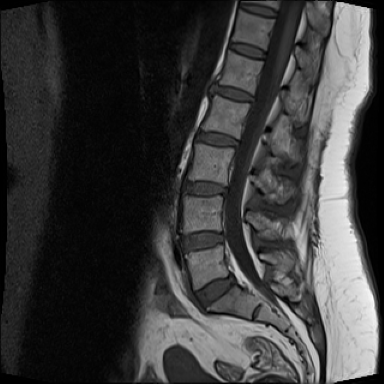Degenerative Disc Disease (DDD): (194, 127, 243, 153)
Lumbar Disc Bulge (LDB): (190, 268, 238, 314), (180, 226, 226, 253), (179, 178, 235, 200), (214, 82, 260, 108)
Normal IVD: (225, 39, 269, 63), (238, 2, 281, 20)
Spinal Stenosis (SS): (220, 182, 234, 201), (248, 92, 261, 107)
